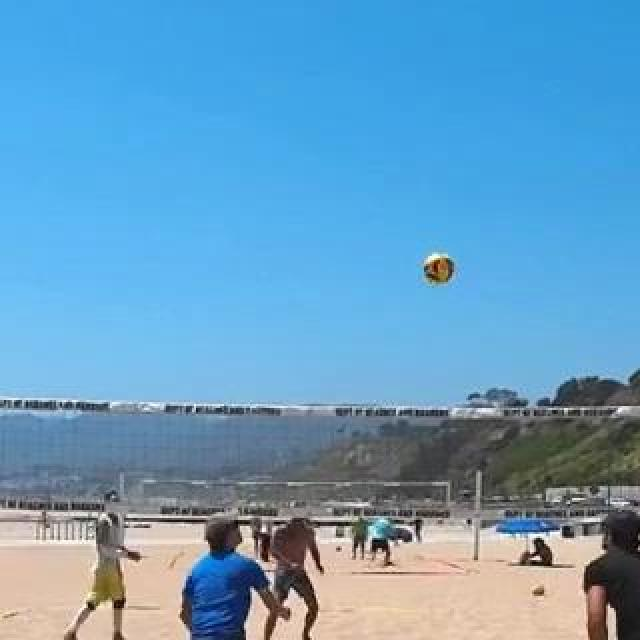volleyball: (424, 254, 454, 284), (531, 583, 545, 597)
